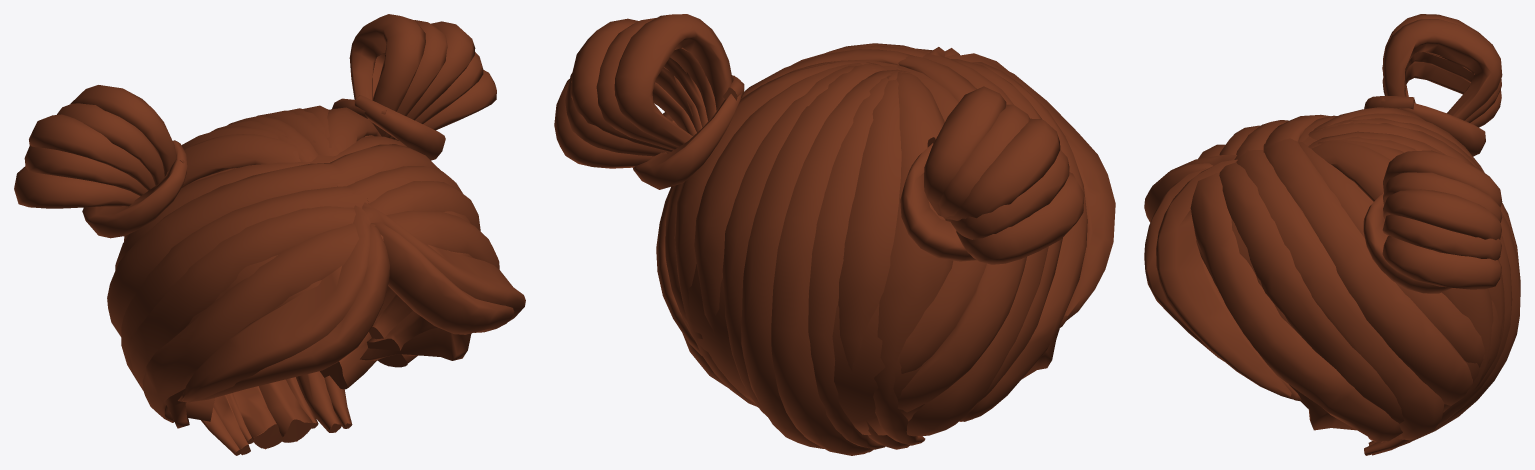
The model's file is hair-5-2f47cf92.glb.
3 renders of one model, left to right at view 1: azimuth 30°, elevation 25°; view 2: azimuth 150°, elevation 25°; view 3: azimuth 270°, elevation 25°, orthographic. The views are drawn at different scales.
Visible parts, largest first — view 1: hair_5.001; view 2: hair_5.001; view 3: hair_5.001.
Boxes of the visible parts, x1,y1,x2,y2 form: hair_5.001: [14, 14, 525, 455]; hair_5.001: [554, 14, 1115, 455]; hair_5.001: [1144, 14, 1520, 455].
Size of the model in its own units: 2.62 by 2.02 by 1.94.
